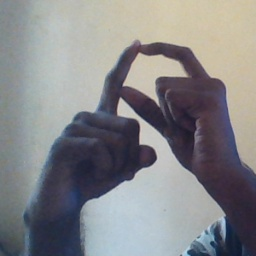D: (79, 35, 222, 153)
